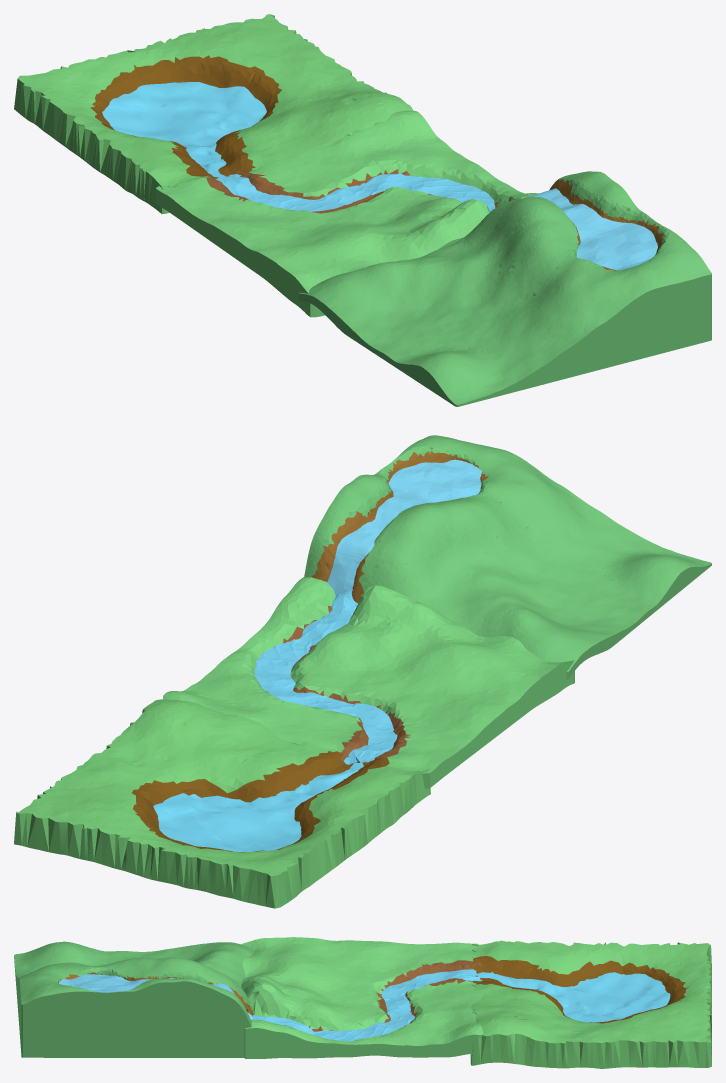
The picture shows the model from 3 angles, top to bottom: view 1: azimuth 30°, elevation 25°; view 2: azimuth 150°, elevation 25°; view 3: azimuth 270°, elevation 25°; orthographic projection. The views are drawn at different scales.
Visible parts, largest first — view 1: scene1:terren; view 2: scene1:terren; view 3: scene1:terren.
Boxes of the visible parts, x1,y1,x2,y2 form: scene1:terren: [14, 14, 711, 406]; scene1:terren: [14, 435, 711, 908]; scene1:terren: [14, 937, 711, 1068].
Bounding box in the file's own units: 71.9 × 30.67 × 199.
